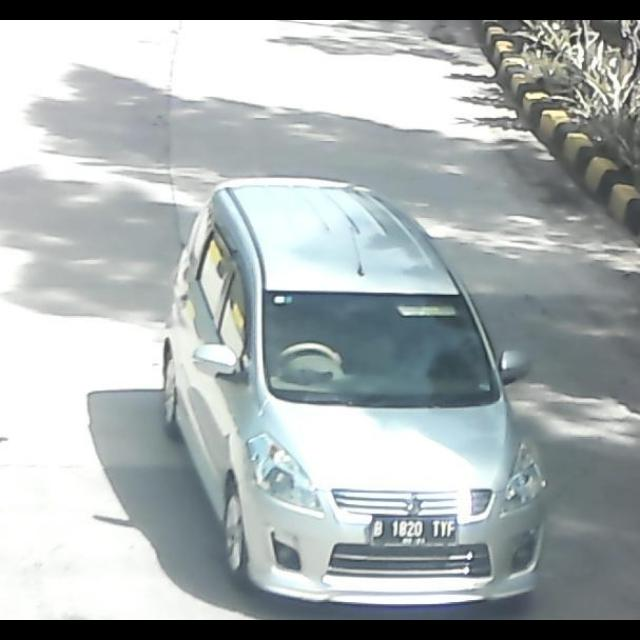plate: (370, 517, 466, 551)
